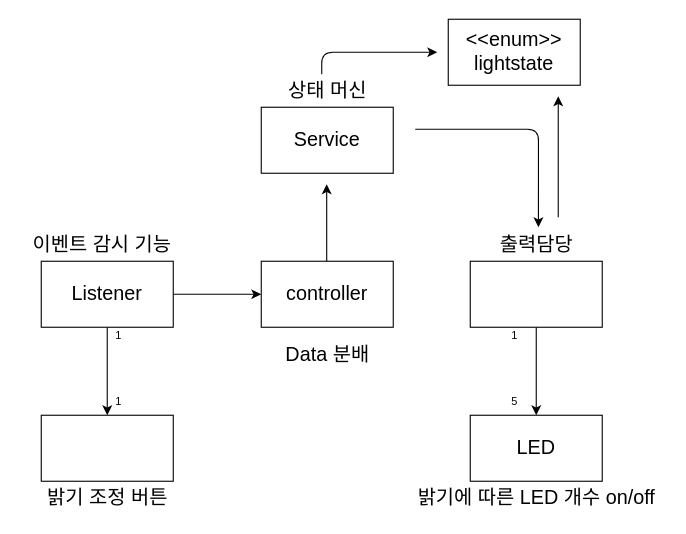
This 686x534 diagram has some shape labels left out. The shapes that lost their labels are listed below. From the top down, each one's centre as x and y in pixels, then its label:
the point at 535,293: View
the point at 106,447: Button
